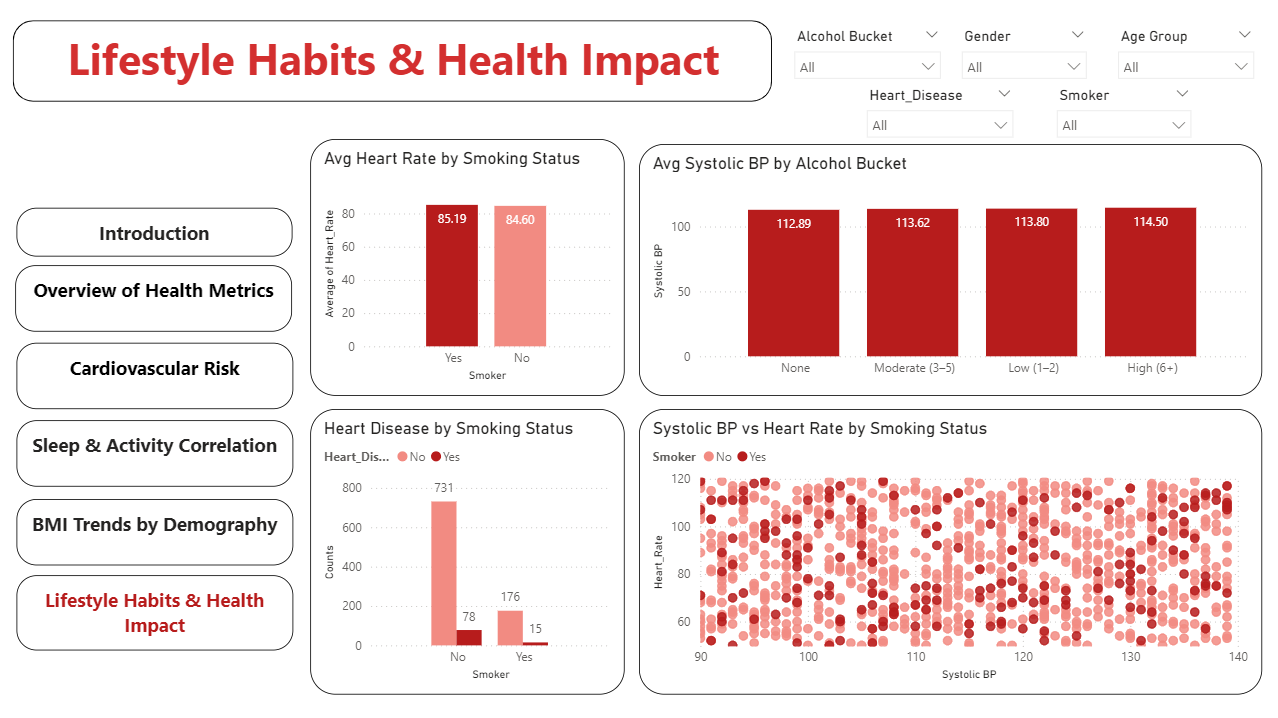

The page's visual inventory and layout, read from the dashboard file:
{"tool":"powerbi","page":{"name":"Lifestyle Habits & Health Impact","canvas":[1280,720],"ordinal":5},"visuals":[{"type":"scatterChart","title":"Systolic BP vs Heart Rate by Smoking Status","fields":{"X":["Health_Data.Systolic BP"],"Y":["Health_Data.Heart_Rate"],"Series":["Health_Data.Smoker"]},"box":[640.1,410.2,623.2,285.6],"z":0},{"type":"clusteredColumnChart","title":"Avg Heart Rate by Smoking Status","fields":{"Category":["Health_Data.Smoker"],"Y":["Avg(Health_Data.Heart_Rate)"]},"box":[311,140.4,314.6,256.5],"z":1000},{"type":"clusteredColumnChart","title":"Heart Disease by Smoking Status","fields":{"Category":["Health_Data.Smoker"],"Series":["Health_Data.Heart_Disease"],"Y":["CountNonNull(Health_Data.ID)"]},"box":[311,410.2,314.6,285.6],"z":2000},{"type":"slicer","fields":{"Values":["Health_Data.Age Group"]},"box":[1108.4,24.2,156.1,58.1],"z":3000},{"type":"slicer","fields":{"Values":["Health_Data.Gender"]},"box":[952.3,24.2,145.2,58.1],"z":4000},{"type":"slicer","fields":{"Values":["Health_Data.Alcohol Bucket"]},"box":[785.3,24.2,167,58.1],"z":5000},{"type":"slicer","fields":{"Values":["Health_Data.Smoker"]},"box":[1047.9,82.3,154.9,62.9],"z":6000},{"type":"slicer","fields":{"Values":["Health_Data.Heart_Disease"]},"box":[857.9,82.3,167,58.1],"z":7000},{"type":"shape","box":[14,20.9,759.3,81.4],"z":8000},{"type":"textbox","box":[53.5,24.4,681.4,74.4],"z":9000},{"type":"textbox","box":[16.3,266.3,276.7,66.3],"z":10000},{"type":"textbox","box":[17.4,344.2,276.7,66.3],"z":11000},{"type":"textbox","box":[17.4,420.9,276.7,66.3],"z":12000},{"type":"textbox","box":[17.4,500,276.7,66.3],"z":13000},{"type":"textbox","box":[17.4,576.7,276.7,75.6],"z":14000},{"type":"shape","box":[17,343.7,275.9,66.7],"z":15000},{"type":"shape","box":[16.9,421.1,275.9,66.6],"z":16000},{"type":"shape","box":[17,499.8,275.9,66.7],"z":17000},{"type":"shape","box":[15.8,266.8,277,66.7],"z":18000},{"type":"clusteredColumnChart","title":"Avg Systolic BP by Alcohol Bucket","fields":{"Category":["Health_Data.Alcohol Bucket"],"Y":["Avg(Health_Data.Systolic BP)"]},"box":[640.1,145.2,623.2,251.7],"z":19000},{"type":"textbox","box":[17,209.2,275.9,48.6],"z":20000},{"type":"shape","box":[15.8,209.2,277,48.6],"z":21000}]}

Visuals, with their boxes in screenshot pixels (x1, y1, x2, y2), scaled from the page's 1280x720 canvas onto the 1278x718 screenshot:
"Systolic BP vs Heart Rate by Smoking Status" scatterChart: 639, 409, 1261, 694
"Avg Heart Rate by Smoking Status" clusteredColumnChart: 311, 140, 625, 396
"Heart Disease by Smoking Status" clusteredColumnChart: 311, 409, 625, 694
slicer - Health_Data.Age Group: 1107, 24, 1263, 82
slicer - Health_Data.Gender: 951, 24, 1096, 82
slicer - Health_Data.Alcohol Bucket: 784, 24, 951, 82
slicer - Health_Data.Smoker: 1046, 82, 1201, 145
slicer - Health_Data.Heart_Disease: 857, 82, 1023, 140
shape: 14, 21, 772, 102
textbox: 53, 24, 734, 99
textbox: 16, 266, 293, 332
textbox: 17, 343, 294, 409
textbox: 17, 420, 294, 486
textbox: 17, 499, 294, 565
textbox: 17, 575, 294, 650
shape: 17, 343, 292, 409
shape: 17, 420, 292, 486
shape: 17, 498, 292, 565
shape: 16, 266, 292, 333
"Avg Systolic BP by Alcohol Bucket" clusteredColumnChart: 639, 145, 1261, 396
textbox: 17, 209, 292, 257
shape: 16, 209, 292, 257
